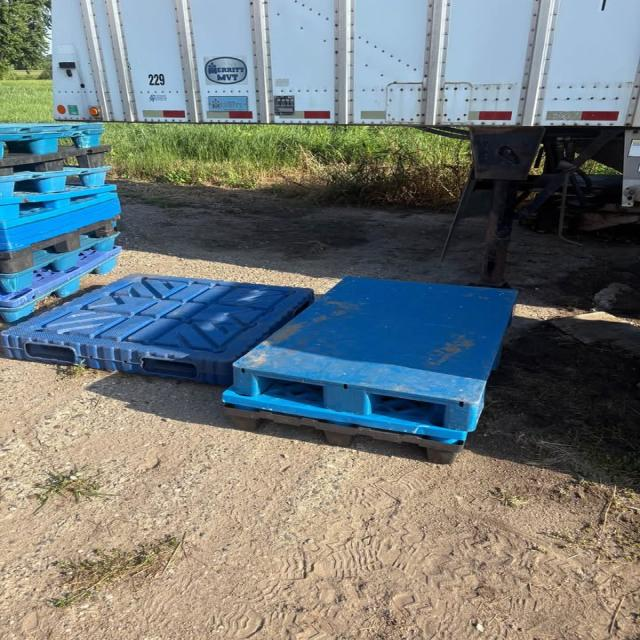non-igps: (225, 268, 525, 437), (0, 271, 317, 390), (215, 373, 471, 452), (218, 398, 471, 469), (0, 249, 130, 330), (0, 209, 130, 277), (0, 227, 127, 296), (0, 242, 127, 311), (0, 205, 128, 255), (0, 199, 131, 246), (0, 178, 121, 227), (0, 195, 125, 241), (0, 188, 127, 233), (0, 118, 109, 167), (0, 161, 117, 203), (0, 140, 119, 181)
